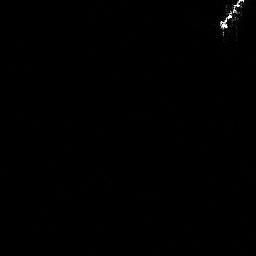ship: (217, 1, 250, 38)
